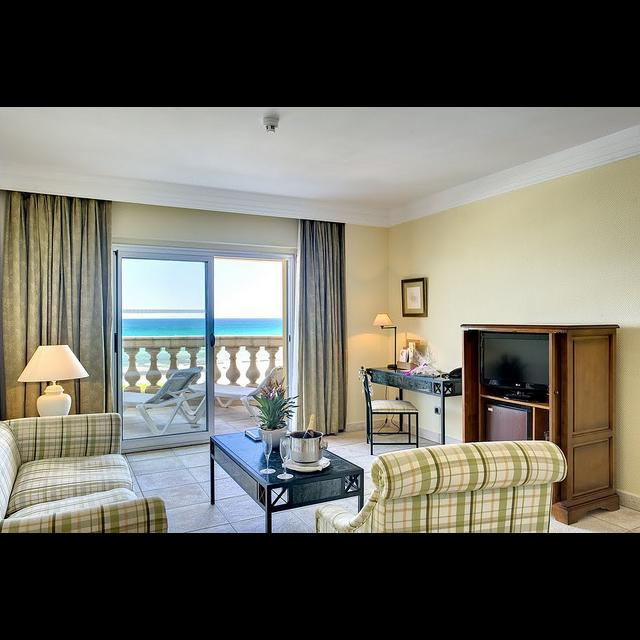Flat-Panel-TV: (481, 338, 549, 406)
